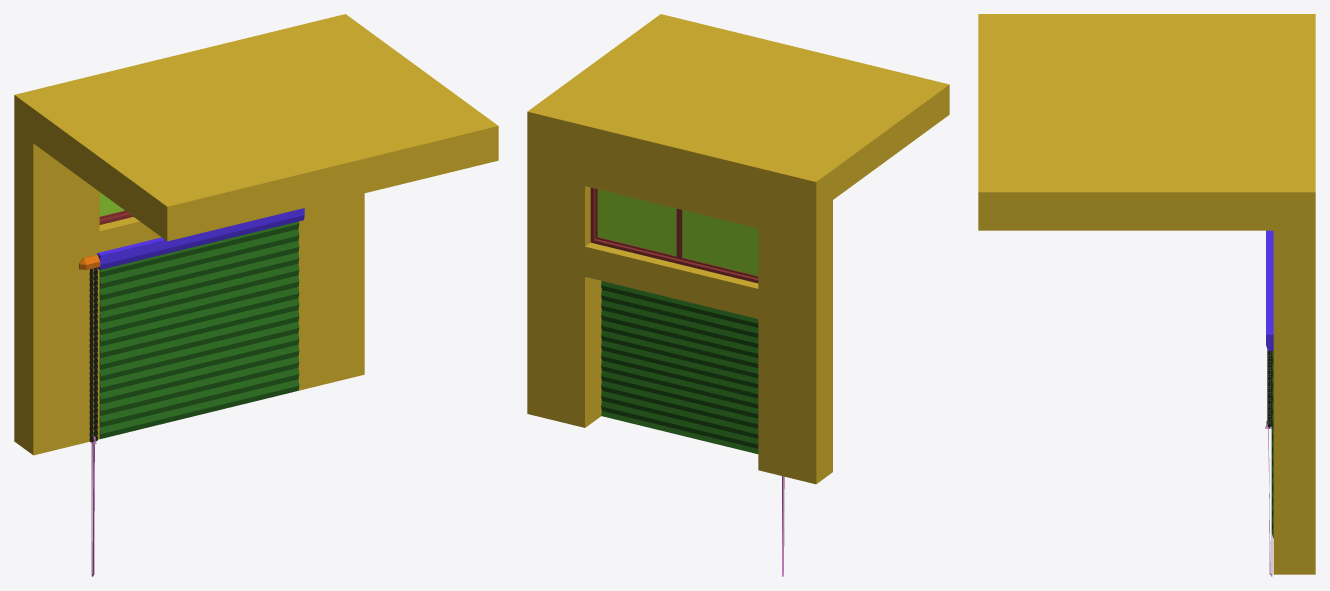
The model's file is SM_Warehouse_Close_02.fbx.
3 renders of one model, left to right at view 1: azimuth 30°, elevation 25°; view 2: azimuth 150°, elevation 25°; view 3: azimuth 270°, elevation 25°, orthographic. The views are drawn at different scales.
Parts seen in each view (by area): view 1: SM_Warehouse_Close_02; view 2: SM_Warehouse_Close_02; view 3: SM_Warehouse_Close_02.
Part boxes in pixels (<box>): SM_Warehouse_Close_02: <box>14,14,498,576</box>; SM_Warehouse_Close_02: <box>527,14,949,576</box>; SM_Warehouse_Close_02: <box>978,14,1315,576</box>.
Bounding box in the file's own units: 1000 × 1389 × 800.
